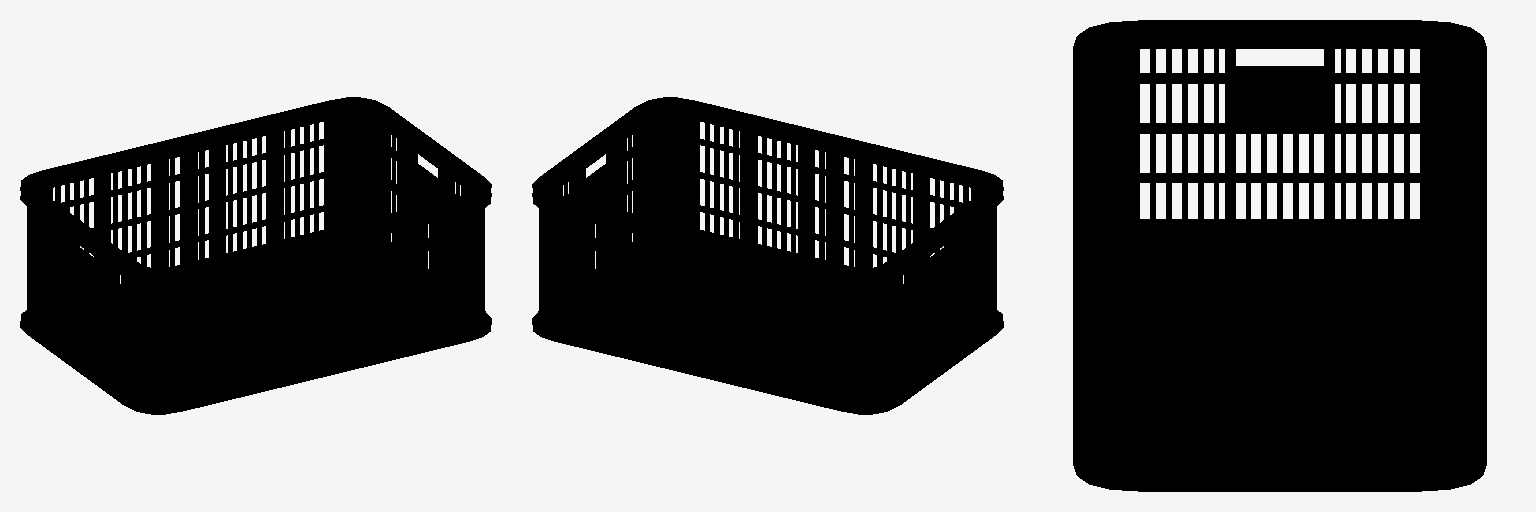
robot.urdf — crate:
<?xml version="1.0" ?>
<robot name="crate">
  <link name="baseLink">
    <contact>
      <lateral_friction value="1.0"/>
      <rolling_friction value="0.0"/>
      <contact_cfm value="0.0"/>
      <contact_erp value="1.0"/>
    </contact>
    <inertial>
      <origin rpy="0 0 0" xyz="0.0225 0.000 0.0047"/>
       <mass value="0.30"/>
       <inertia ixx="0.00012333" ixy="-0.0" ixz="-0.0" iyy="0.00005145" iyz="0.00000007" izz="0.00012910"/>
    </inertial>
    <visual>
      <origin rpy="0 0 0" xyz="0.0225 0.000 0.0047"/>
      <geometry>
        <mesh filename="../obj/crate.obj" scale="0.001 0.001 0.001"/>
      </geometry>
       <material name="black">
        <color rgba="0 0 0 1"/>
      </material>
    </visual>
    <collision concave="yes">
      <origin rpy="0 0 0" xyz="0.0225 0.000 0.0047"/>
      <geometry>
	 	<mesh filename="../obj/crate.obj" scale="0.001 0.001 0.001"/>
      </geometry>
    </collision>
  </link>
</robot>

--- What the picture shows (computed from the rendered views, not written in the file) ---
Views: 3 orthographic renders of the robot side by side, from view 1: azimuth 30°, elevation 25°; view 2: azimuth 150°, elevation 25°; view 3: azimuth 270°, elevation 25°.
Model crate with 1 links and 0 joints (none), rooted at baseLink, posed every joint at zero.
Links seen in each view (by area): view 1: baseLink; view 2: baseLink; view 3: baseLink.
Boxes of the visible links, x1,y1,x2,y2 form: baseLink: (20,97,491,414); baseLink: (532,97,1003,414); baseLink: (1073,20,1486,491).
Size in the robot's own frame: 0.24 by 0.16 by 0.0886 metres.
1 mesh visuals loaded from 1 distinct referenced files (1 OBJ).
